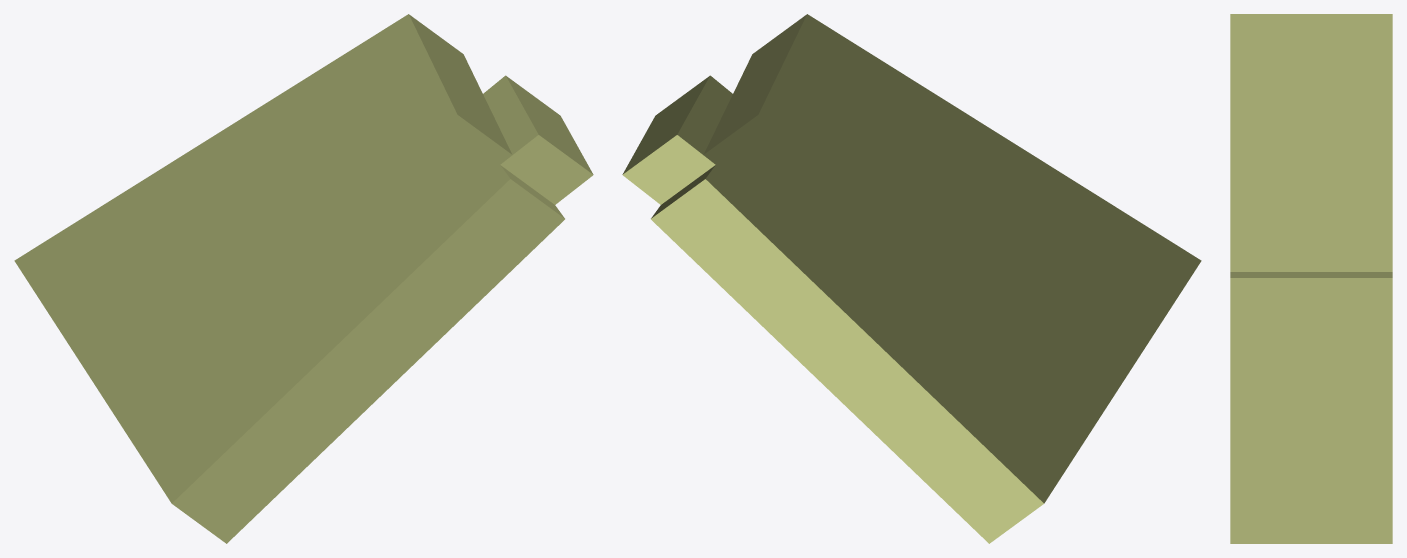
3 views of the same model, side by side, from view 1: azimuth 30°, elevation 25°; view 2: azimuth 150°, elevation 25°; view 3: azimuth 270°, elevation 25° (orthographic). The views are drawn at different scales.
Visible parts, largest first — view 1: 0_0_1_3_1_1_1_1; view 2: 0_0_1_3_1_1_1_1; view 3: 0_0_1_3_1_1_1_1.
Part boxes in pixels (x1,y1,x2,y2): 0_0_1_3_1_1_1_1: (14,14,593,543); 0_0_1_3_1_1_1_1: (622,14,1201,543); 0_0_1_3_1_1_1_1: (1230,14,1392,543).
Size of the model in its own units: 33.05 by 26.01 by 6.
